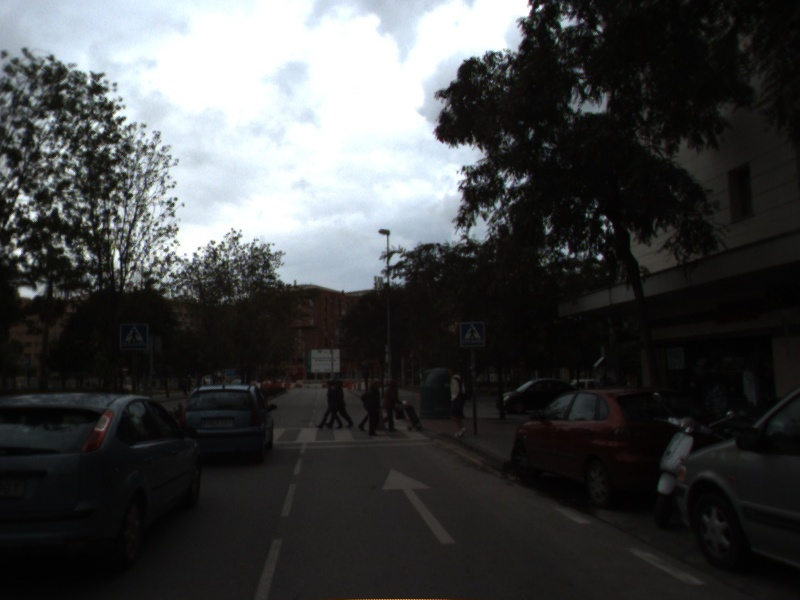STRAIGHT: (380, 467, 458, 546)
